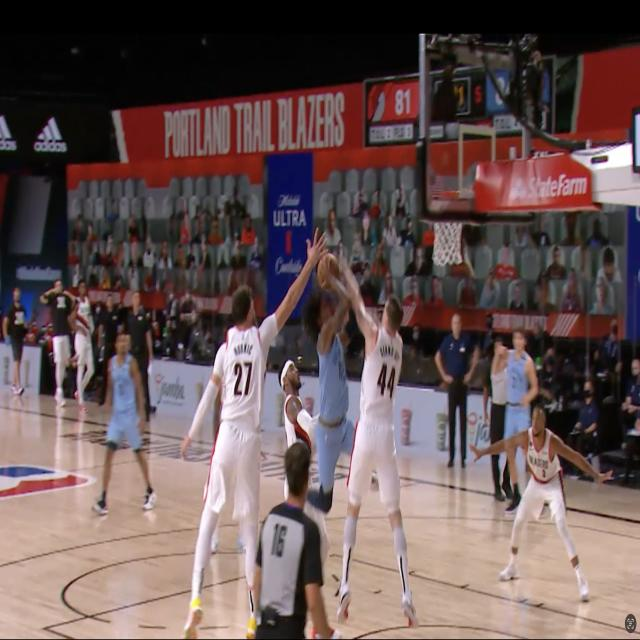foul: (304, 221, 428, 616)
no foul: (184, 226, 274, 633), (258, 426, 338, 640)
